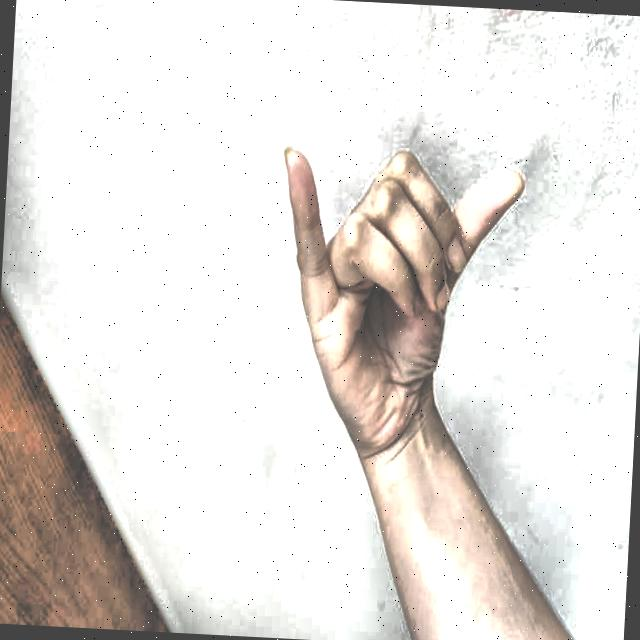Oi: (245, 98, 562, 490)
